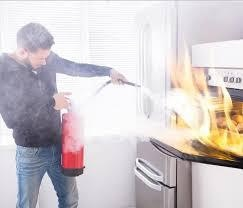fire: (164, 62, 243, 154)
